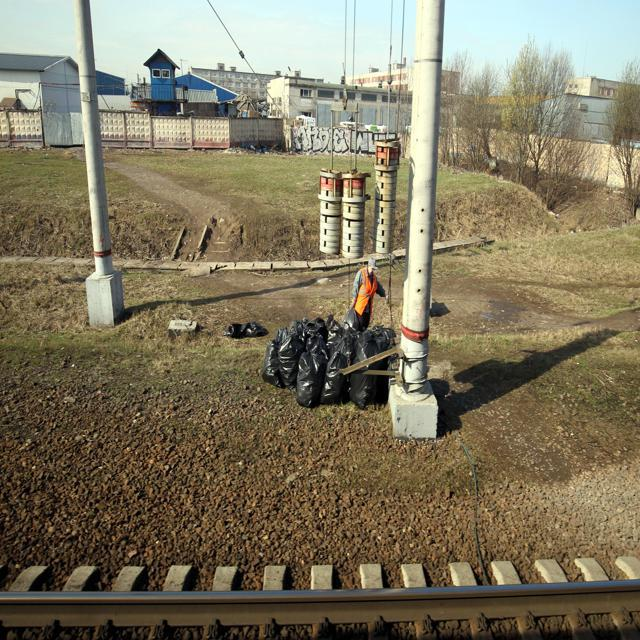lixeira: (262, 315, 400, 409), (225, 322, 270, 338)
